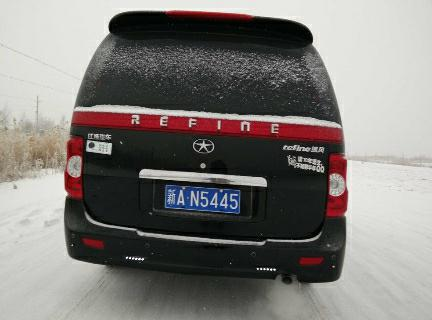江淮-瑞风: (58, 8, 356, 291)
